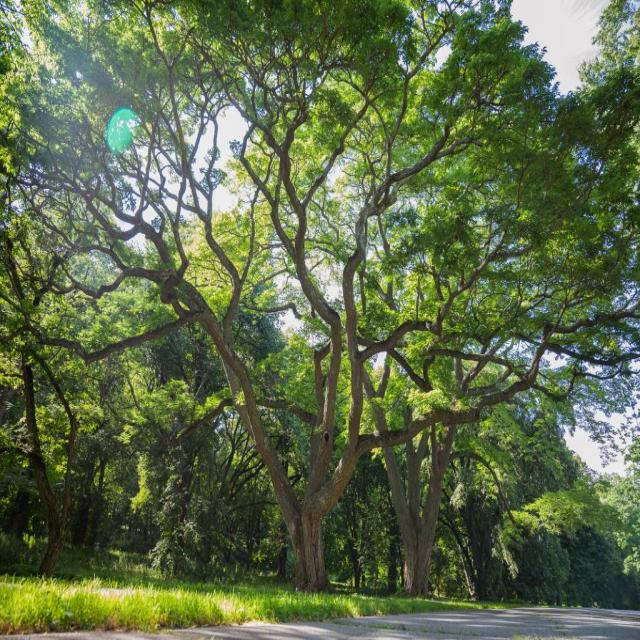Acacia: (9, 0, 559, 589), (278, 0, 637, 594)
